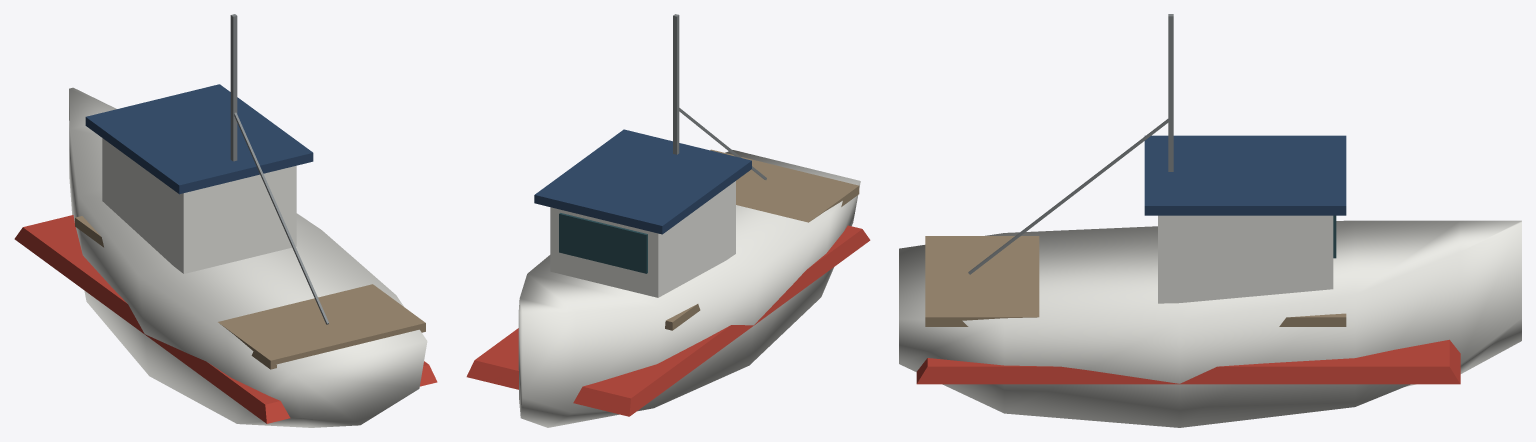
File: marina-boat.glb
3 views of the same model, side by side, from view 1: azimuth 30°, elevation 25°; view 2: azimuth 150°, elevation 25°; view 3: azimuth 270°, elevation 25° (orthographic). The views are drawn at different scales.
Visible parts, largest first — view 1: marina-boat: Palm Bay hull, marina-boat: Palm Bay white, marina-boat: Palm Bay navy, marina-boat: Palm Bay deck, marina-boat: Palm Bay red, marina-boat: Palm Bay steel; view 2: marina-boat: Palm Bay hull, marina-boat: Palm Bay navy, marina-boat: Palm Bay white, marina-boat: Palm Bay red, marina-boat: Palm Bay deck, marina-boat: Palm Bay glass, marina-boat: Palm Bay steel; view 3: marina-boat: Palm Bay hull, marina-boat: Palm Bay navy, marina-boat: Palm Bay white, marina-boat: Palm Bay red, marina-boat: Palm Bay deck, marina-boat: Palm Bay steel.
Part boxes in pixels (x1=…): marina-boat: Palm Bay hull: x1=69, y1=87, x2=427, y2=427; marina-boat: Palm Bay white: x1=102, y1=138, x2=296, y2=273; marina-boat: Palm Bay navy: x1=85, y1=84, x2=313, y2=194; marina-boat: Palm Bay deck: x1=75, y1=216, x2=425, y2=369; marina-boat: Palm Bay red: x1=14, y1=215, x2=437, y2=423; marina-boat: Palm Bay steel: x1=230, y1=14, x2=328, y2=324; marina-boat: Palm Bay hull: x1=518, y1=150, x2=860, y2=427; marina-boat: Palm Bay navy: x1=534, y1=129, x2=751, y2=234; marina-boat: Palm Bay white: x1=550, y1=181, x2=735, y2=297; marina-boat: Palm Bay red: x1=466, y1=225, x2=870, y2=416; marina-boat: Palm Bay deck: x1=665, y1=149, x2=859, y2=330; marina-boat: Palm Bay glass: x1=559, y1=213, x2=647, y2=273; marina-boat: Palm Bay steel: x1=673, y1=14, x2=766, y2=179; marina-boat: Palm Bay hull: x1=899, y1=220, x2=1521, y2=427; marina-boat: Palm Bay navy: x1=1144, y1=135, x2=1346, y2=215; marina-boat: Palm Bay white: x1=1158, y1=215, x2=1333, y2=303; marina-boat: Palm Bay red: x1=916, y1=339, x2=1460, y2=384; marina-boat: Palm Bay deck: x1=925, y1=236, x2=1346, y2=326; marina-boat: Palm Bay steel: x1=968, y1=14, x2=1173, y2=274.
Bounding box in the file's own units: 2.6 × 4.96 × 7.1.
